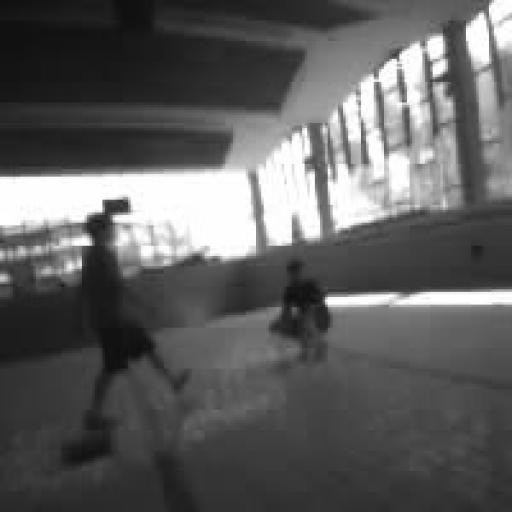human: (80, 213, 189, 430), (269, 259, 330, 360)
